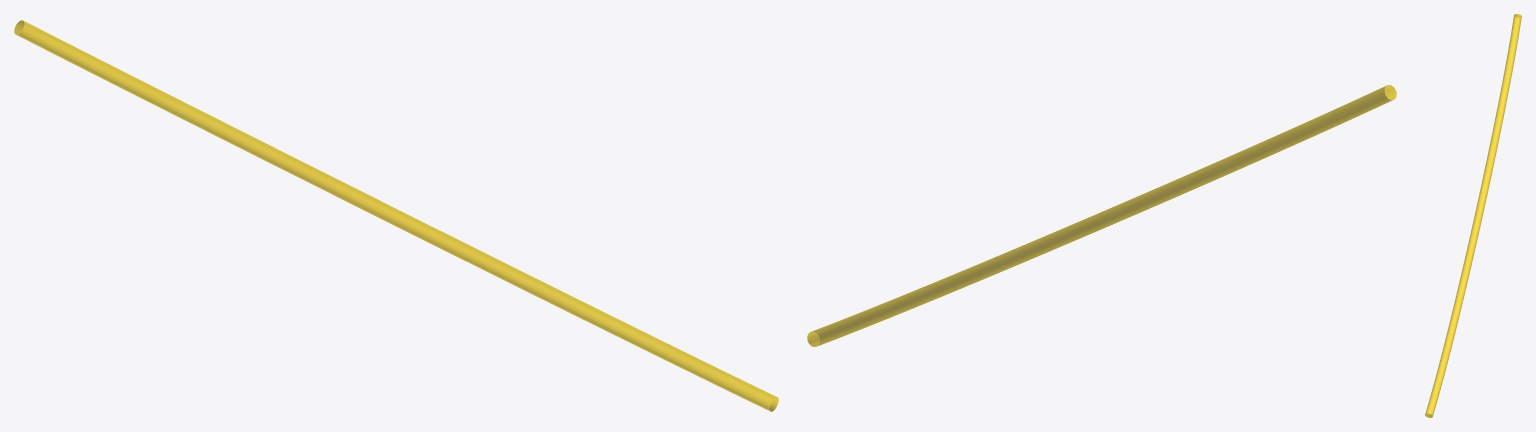
Rendered from Event_17758602_track_152.fbx.
The picture shows the model from 3 angles, left to right: view 1: azimuth 30°, elevation 25°; view 2: azimuth 150°, elevation 25°; view 3: azimuth 270°, elevation 25°; orthographic projection. The views are drawn at different scales.
Visible parts, largest first — view 1: Model; view 2: Model; view 3: Model.
Boxes of the visible parts, box(x1,y1,x2,y2) form: Model: box(14, 20, 778, 411); Model: box(807, 85, 1396, 346); Model: box(1425, 14, 1521, 417).
Size of the model in its own units: 1.94 by 1.34 by 0.4835.
